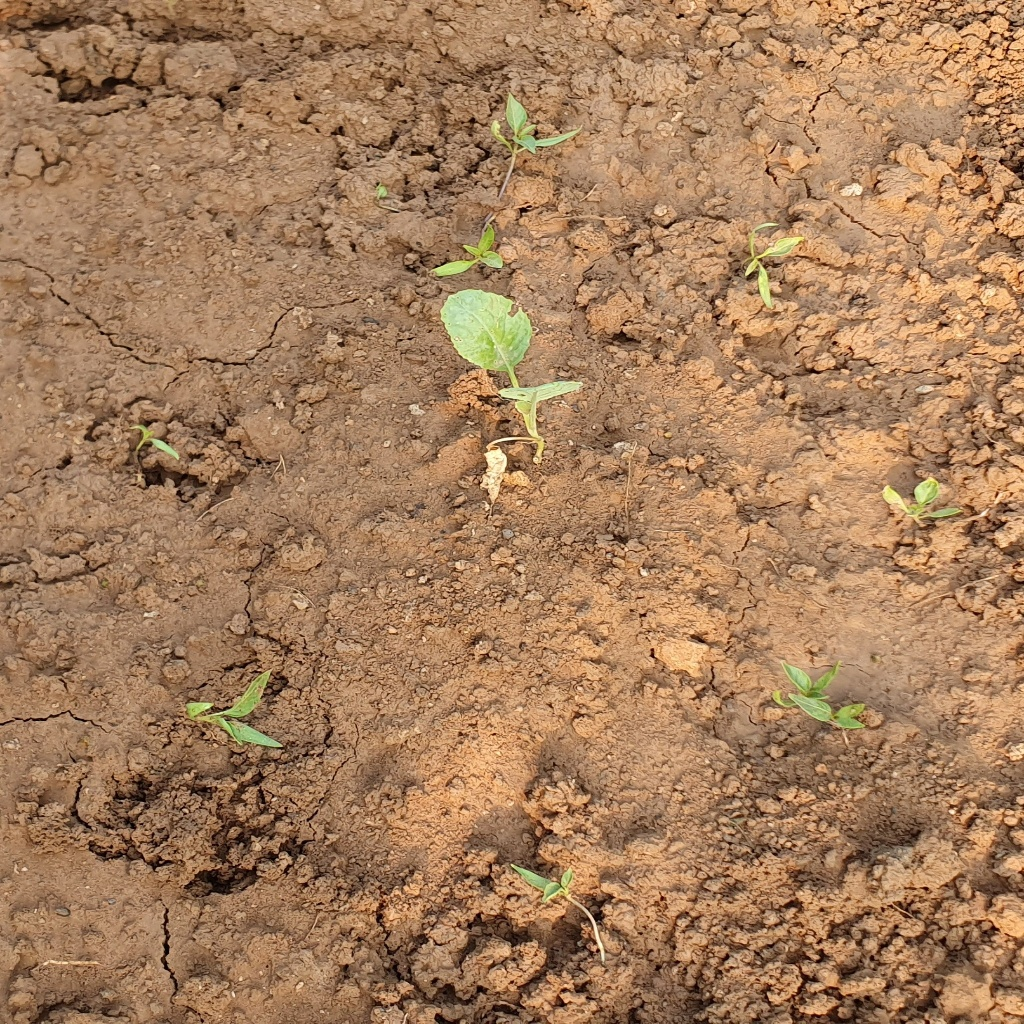crop: (432, 292, 588, 477)
weed: (775, 658, 868, 750), (174, 686, 253, 746), (484, 110, 573, 162), (879, 481, 956, 541), (724, 232, 788, 290), (521, 865, 598, 912), (444, 232, 517, 279), (127, 426, 174, 464)
